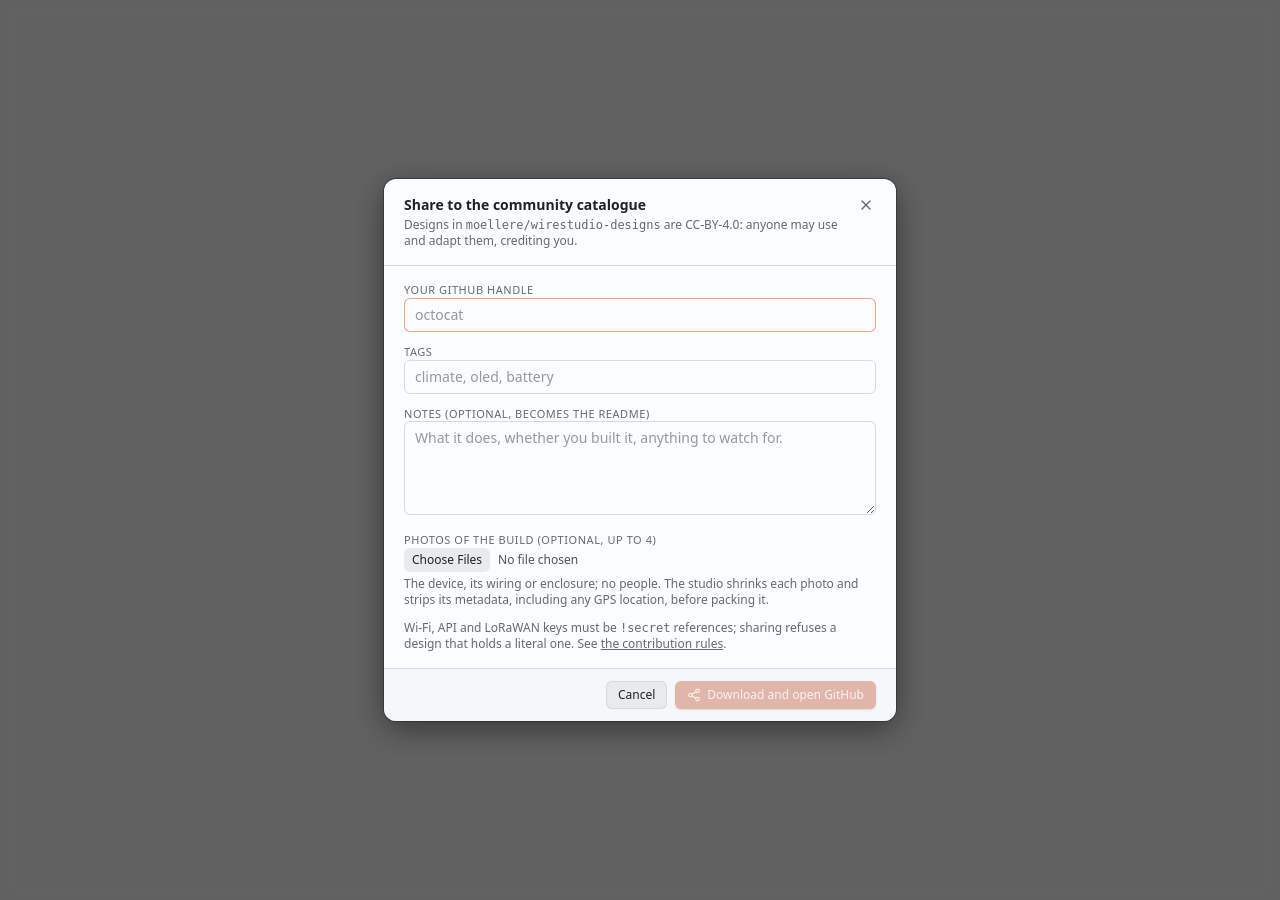
Test: ShareDialog › packs the design, opens the upload page and remembers the handle
Type "@me" into the field with placeholder "octocat".
click(640, 315); type("@me")  # box [404, 298, 876, 332]
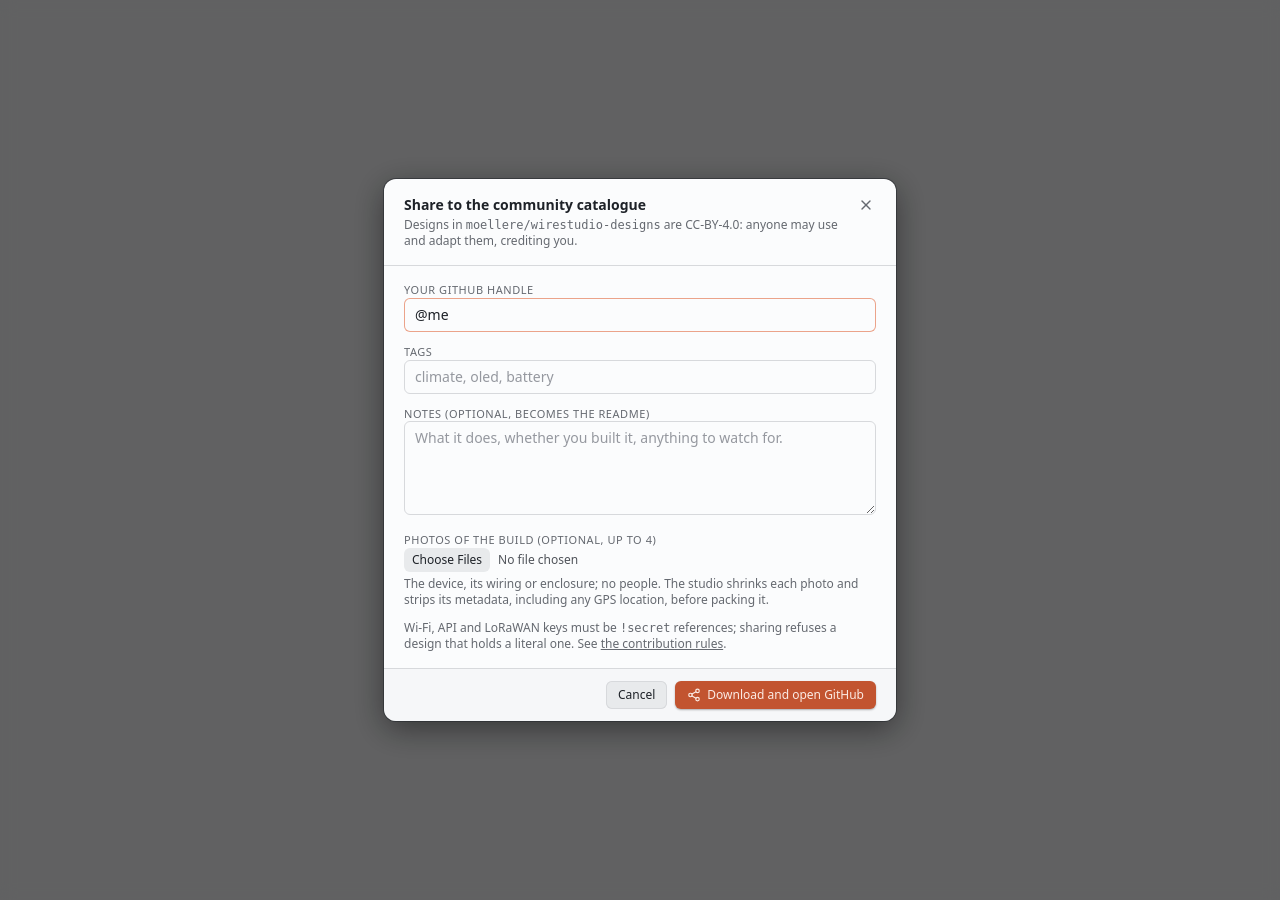
Type "motion, PIR" into the field with placeholder "climate, oled, battery".
click(640, 376); type("motion, PIR")  # box [404, 360, 876, 394]
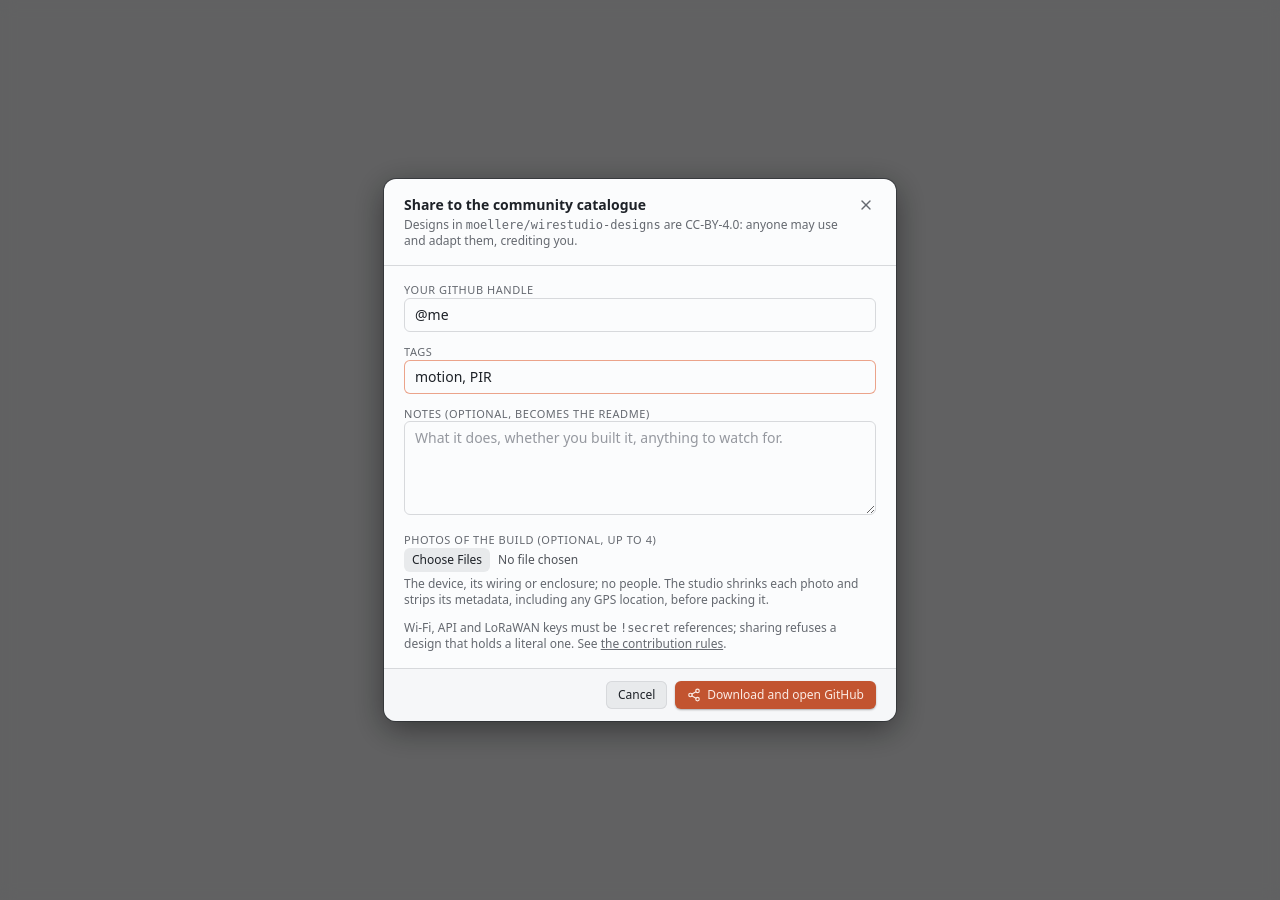
Click the button "Download and open GitHub".
click(776, 695)  # box [675, 681, 876, 709]
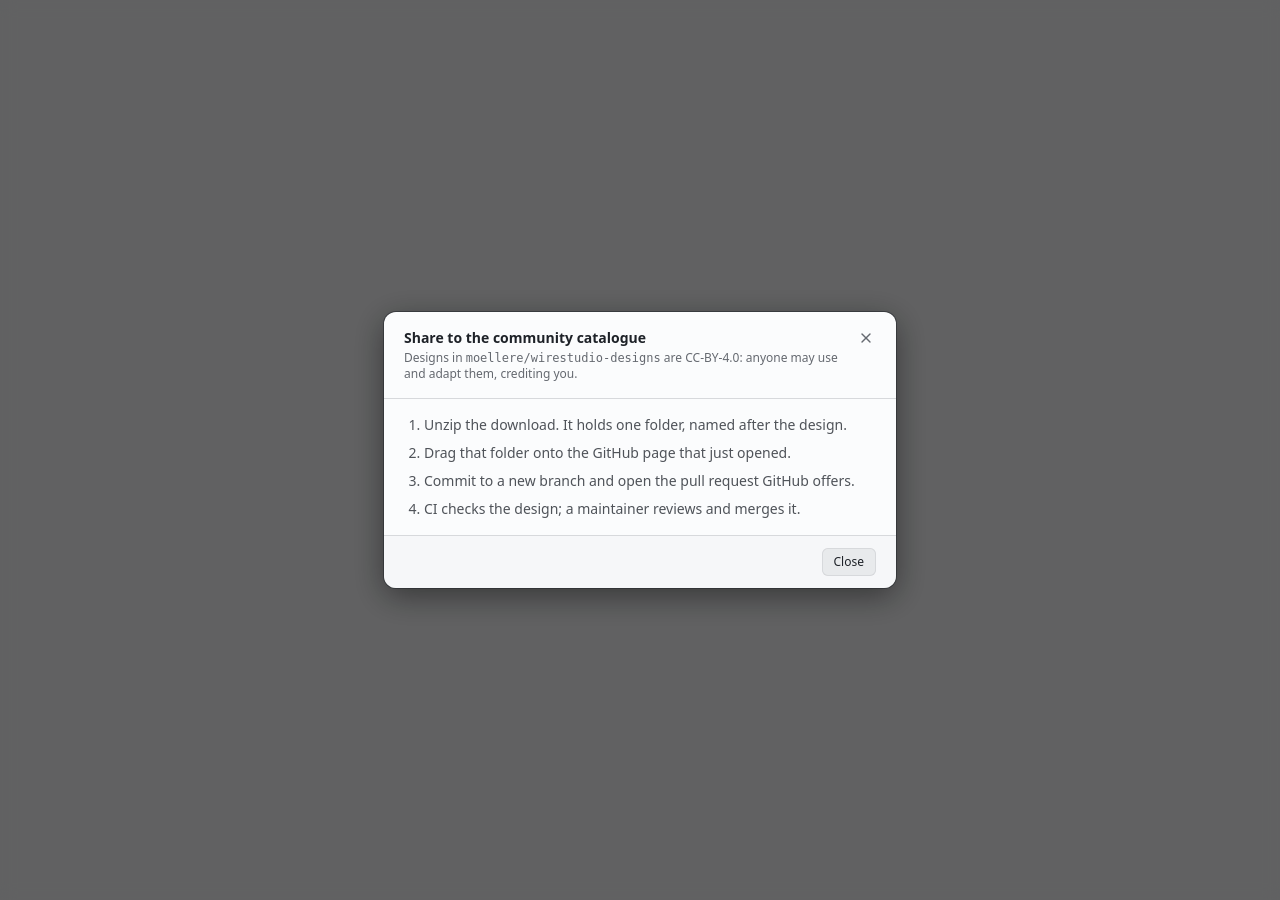
Check: the list item "Drag that folder onto the GitHub page that just opened." is shown, box [424, 443, 791, 462]
